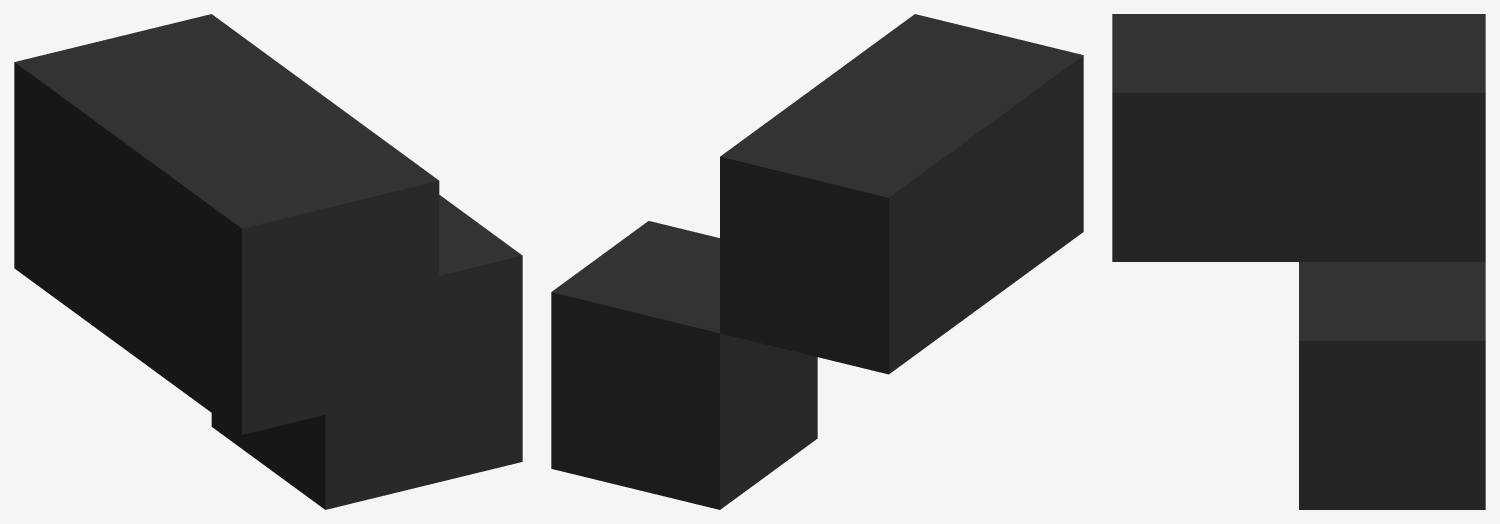
File: Body-3-MicroRecon_Fin_L.obj
3 renders of one model, left to right at view 1: azimuth 30°, elevation 25°; view 2: azimuth 150°, elevation 25°; view 3: azimuth 270°, elevation 25°, orthographic. The views are drawn at different scales.
Parts seen in each view (by area): view 1: MicroRecon_Fin_L; view 2: MicroRecon_Fin_L; view 3: MicroRecon_Fin_L.
Part boxes in pixels (bbox=[...]): MicroRecon_Fin_L: bbox=[14, 14, 522, 509]; MicroRecon_Fin_L: bbox=[551, 14, 1083, 509]; MicroRecon_Fin_L: bbox=[1112, 14, 1485, 509].
Bounding box in the file's own units: 0.2 × 0.2 × 0.2.
Materials: 1 (1 with a texture image).
